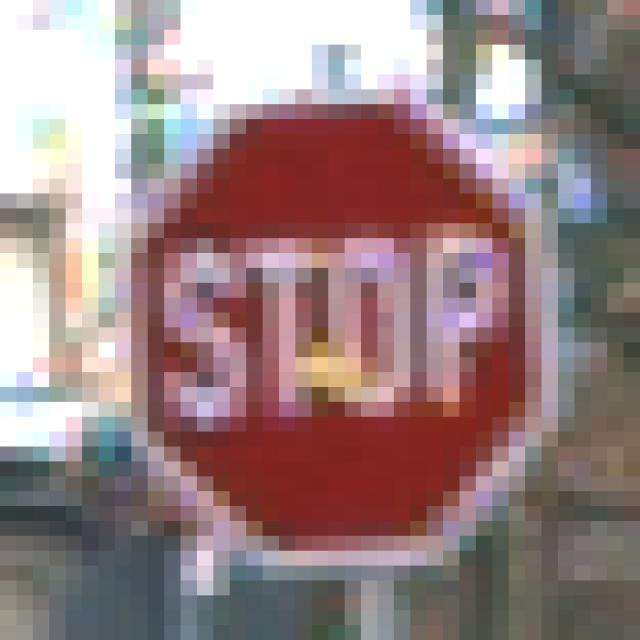STOP: (99, 75, 559, 552)
